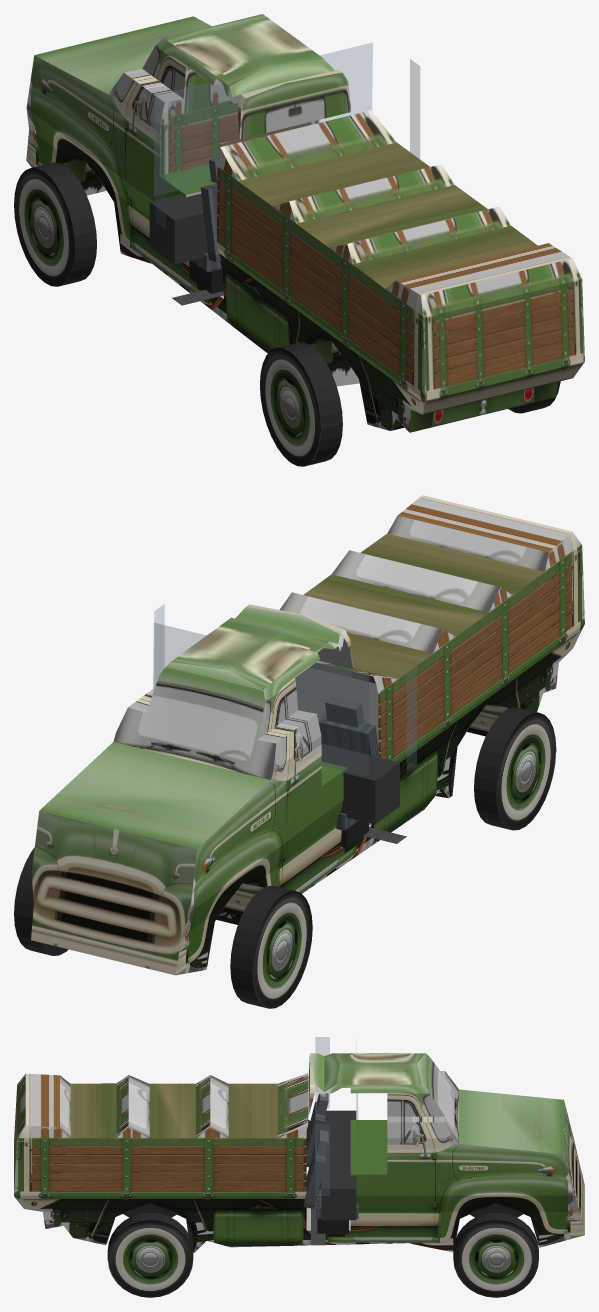
The model's file is farm_pickup_flatbed.glb.
3 views of the same model, one above another, from view 1: azimuth 30°, elevation 25°; view 2: azimuth 150°, elevation 25°; view 3: azimuth 270°, elevation 25° (orthographic). The views are drawn at different scales.
Parts seen in each view (by area): view 1: farm_pickup_flatbed, farm_pickup_flatbed_cabin, wheel_BL, wheel_FL; view 2: farm_pickup_flatbed, farm_pickup_flatbed_cabin, wheel_FL, wheel_BL, wheel_FR; view 3: farm_pickup_flatbed, farm_pickup_flatbed_cabin, wheel_BR, wheel_FR, wheel_BL, wheel_FL.
Boxes of the visible parts, x1,y1,x2,y2 form: farm_pickup_flatbed: (26,14,584,432); farm_pickup_flatbed_cabin: (149,43,419,305); wheel_BL: (260,342,342,466); wheel_FL: (14,162,96,286); farm_pickup_flatbed: (31,495,584,975); farm_pickup_flatbed_cabin: (153,604,416,848); wheel_FL: (230,885,312,1008); wheel_BL: (474,707,556,830); wheel_FR: (14,847,68,955); farm_pickup_flatbed: (14,1053,584,1252); farm_pickup_flatbed_cabin: (303,1037,358,1245); wheel_BR: (107,1212,193,1297); wheel_FR: (453,1212,538,1297); wheel_BL: (123,1203,176,1217); wheel_FL: (470,1203,522,1217).
Bounding box in the file's own units: 2.35 × 2.38 × 6.49.
12 materials, 4 textured.
